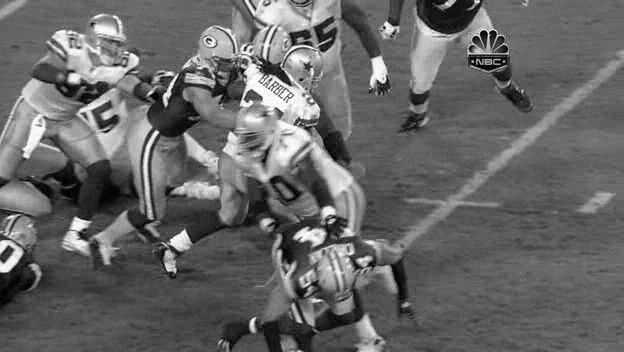person: (285, 46, 321, 92), (284, 46, 320, 92), (286, 46, 322, 92), (285, 45, 321, 91), (285, 47, 321, 93)
target_negative: (139, 207, 463, 312), (152, 18, 214, 279), (241, 290, 436, 330), (316, 224, 382, 332), (538, 139, 555, 321), (466, 257, 572, 262)
